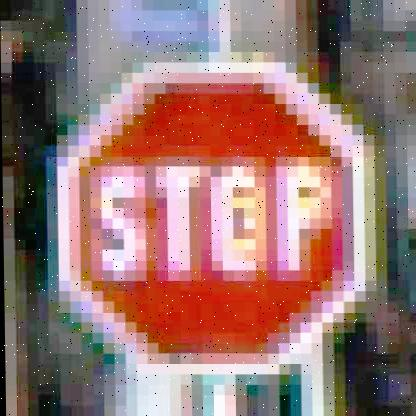Stop Sign: (57, 55, 378, 372)
